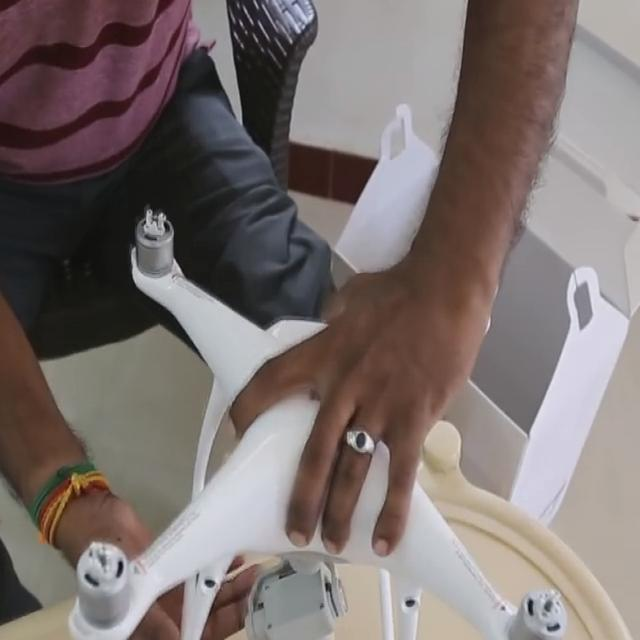drone: (22, 193, 595, 640)
